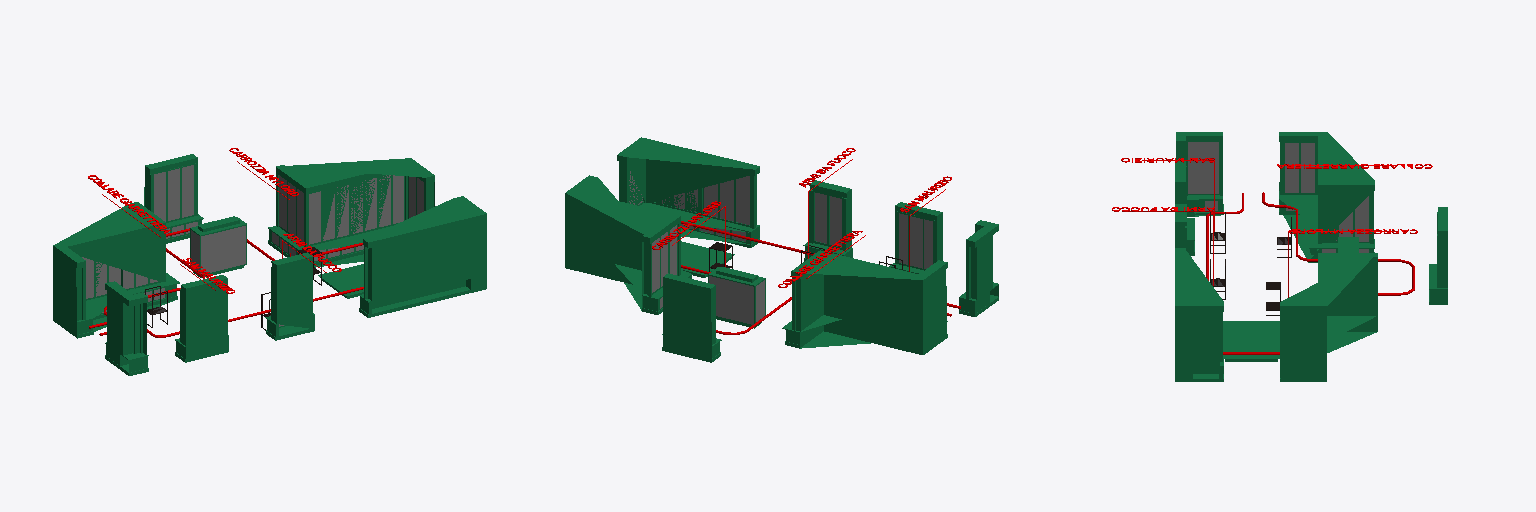
Rendered from PROVA3.obj.
3 views of the same model, side by side, from view 1: azimuth 30°, elevation 25°; view 2: azimuth 150°, elevation 25°; view 3: azimuth 270°, elevation 25° (orthographic).
Visible parts, largest first — view 1: Mesh100 rotonda40_1 Model, Mesh92 rotonda40_1 Model, Mesh89 rotonda40_1 Model, Mesh113 rotonda40_1 Model, Mesh109 rotonda40_1 Model, Mesh107 rotonda40_1 Model, Mesh101 rotonda40_1 Model, Mesh117 rotonda40_1 Model, Mesh115 rotonda40_1 Model, Mesh114 rotonda40_1 Model; view 2: Mesh89 rotonda40_1 Model, Mesh100 rotonda40_1 Model, Mesh92 rotonda40_1 Model, Mesh109 rotonda40_1 Model, Mesh107 rotonda40_1 Model, Mesh113 rotonda40_1 Model, Mesh101 rotonda40_1 Model, Mesh117 rotonda40_1 Model, Mesh114 rotonda40_1 Model, Mesh115 rotonda40_1 Model; view 3: Mesh100 rotonda40_1 Model, Mesh89 rotonda40_1 Model, Mesh92 rotonda40_1 Model, Mesh114 rotonda40_1 Model, Mesh109 rotonda40_1 Model, Mesh101 rotonda40_1 Model, Mesh115 rotonda40_1 Model, Mesh113 rotonda40_1 Model, Mesh106 rotonda40_1 Model, Mesh105 rotonda40_1 Model.
Boxes of the visible parts, box(x1,y1,x2,y2) form: Mesh100 rotonda40_1 Model: box(268, 158, 434, 267); Mesh92 rotonda40_1 Model: box(359, 196, 486, 317); Mesh89 rotonda40_1 Model: box(53, 202, 179, 338); Mesh113 rotonda40_1 Model: box(175, 275, 228, 362); Mesh109 rotonda40_1 Model: box(144, 154, 203, 243); Mesh107 rotonda40_1 Model: box(265, 252, 314, 340); Mesh101 rotonda40_1 Model: box(105, 281, 148, 375); Mesh117 rotonda40_1 Model: box(190, 217, 246, 274); Mesh115 rotonda40_1 Model: box(89, 228, 363, 337); Mesh114 rotonda40_1 Model: box(318, 264, 363, 298); Mesh89 rotonda40_1 Model: box(782, 250, 947, 354); Mesh100 rotonda40_1 Model: box(565, 175, 692, 314); Mesh92 rotonda40_1 Model: box(617, 137, 759, 247); Mesh109 rotonda40_1 Model: box(662, 273, 721, 362); Mesh107 rotonda40_1 Model: box(803, 180, 852, 261); Mesh113 rotonda40_1 Model: box(889, 202, 942, 273); Mesh101 rotonda40_1 Model: box(959, 220, 998, 316); Mesh117 rotonda40_1 Model: box(708, 267, 765, 325); Mesh114 rotonda40_1 Model: box(681, 241, 734, 277); Mesh115 rotonda40_1 Model: box(681, 221, 960, 334); Mesh100 rotonda40_1 Model: box(1280, 253, 1377, 381); Mesh89 rotonda40_1 Model: box(1279, 132, 1374, 262); Mesh92 rotonda40_1 Model: box(1175, 248, 1223, 381); Mesh114 rotonda40_1 Model: box(1223, 321, 1279, 361); Mesh109 rotonda40_1 Model: box(1429, 207, 1447, 304); Mesh101 rotonda40_1 Model: box(1176, 132, 1223, 216); Mesh115 rotonda40_1 Model: box(1206, 192, 1414, 354); Mesh113 rotonda40_1 Model: box(1175, 161, 1194, 255); Mesh106 rotonda40_1 Model: box(1188, 142, 1203, 193); Mesh105 rotonda40_1 Model: box(1204, 142, 1218, 193).
Bounding box in the file's own units: 2204 × 547 × 1794.